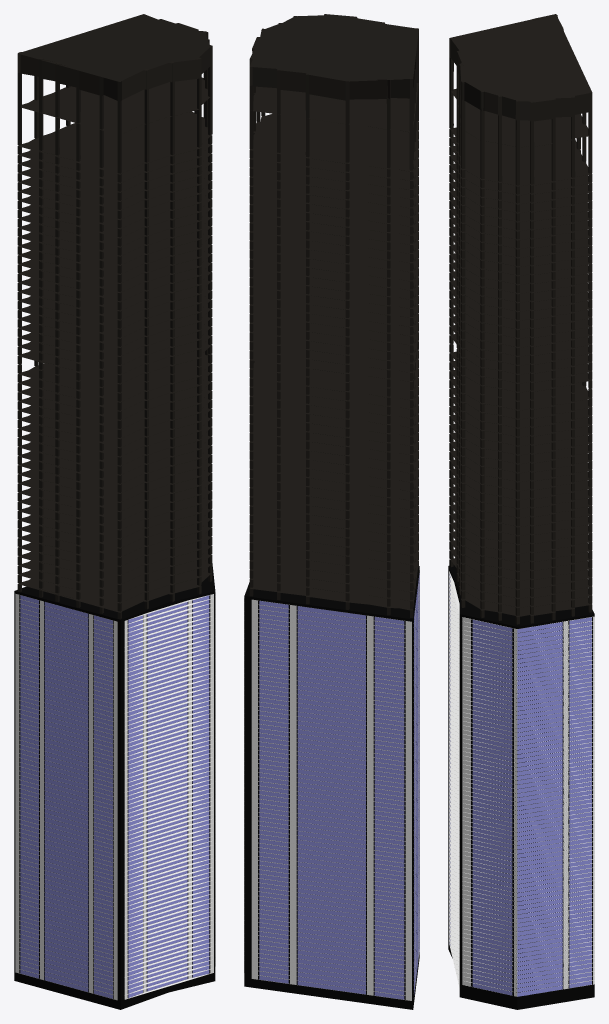
The model's file is OneKensingtonBoulevard.fbx.
The picture shows the model from 3 angles, left to right: view 1: azimuth 30°, elevation 25°; view 2: azimuth 150°, elevation 25°; view 3: azimuth 270°, elevation 25°; orthographic projection.
Visible parts, largest first — view 1: OKBConstruction, Window, Window.001, OneKensingtonBoulevard; view 2: OKBConstruction, Window.003, OneKensingtonBoulevard, Window; view 3: OKBConstruction, Window.002, OneKensingtonBoulevard, Window.001.
Boxes of the visible parts, x1=… form: OKBConstruction: x1=17, y1=14, x2=212, y2=619; Window: x1=15, y1=593, x2=117, y2=1000; Window.001: x1=124, y1=594, x2=213, y2=999; OneKensingtonBoulevard: x1=14, y1=563, x2=215, y2=1009; OKBConstruction: x1=249, y1=14, x2=418, y2=617; Window.003: x1=251, y1=599, x2=411, y2=1000; OneKensingtonBoulevard: x1=244, y1=566, x2=419, y2=1009; Window: x1=413, y1=570, x2=419, y2=997; OKBConstruction: x1=449, y1=14, x2=592, y2=624; Window.002: x1=462, y1=616, x2=594, y2=996; OneKensingtonBoulevard: x1=448, y1=565, x2=594, y2=1009; Window.001: x1=449, y1=571, x2=459, y2=987.
Size of the model in its own units: 8581 by 43001 by 6260.
